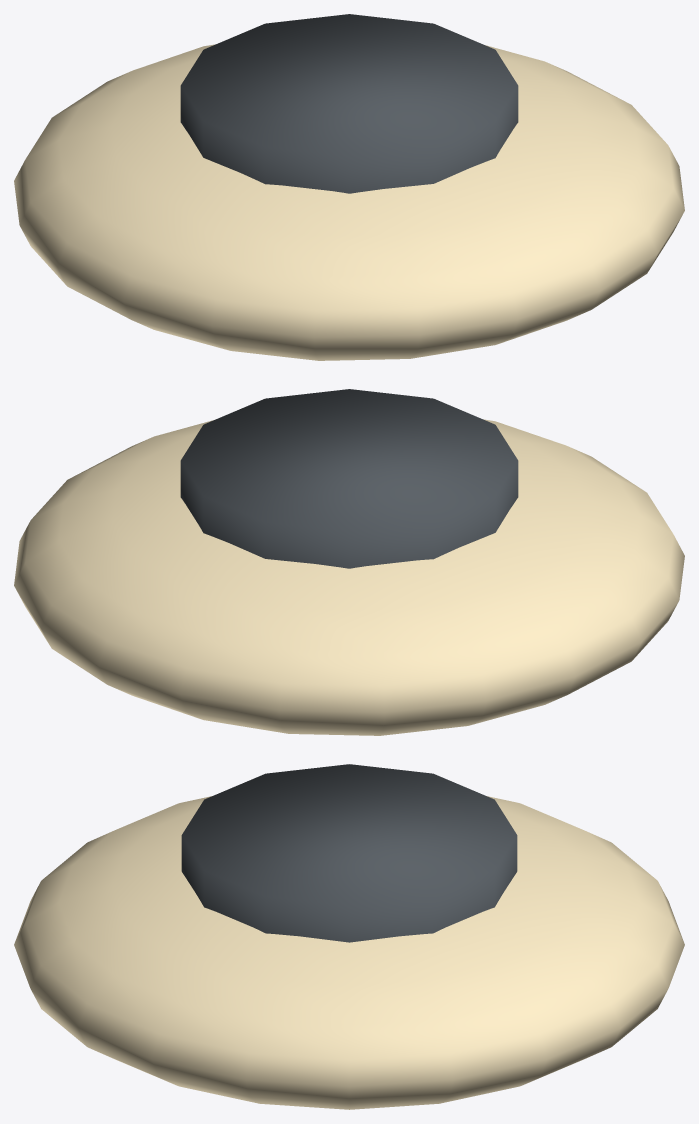
Rendered from atelier-recessed-downlight.glb.
3 renders of one model, top to bottom at view 1: azimuth 30°, elevation 25°; view 2: azimuth 150°, elevation 25°; view 3: azimuth 270°, elevation 25°, orthographic.
Visible parts, largest first — view 1: bulb.010, metal.076; view 2: bulb.010, metal.076; view 3: bulb.010, metal.076.
Part boxes in pixels (box(x1,y1,x2,y2)): bulb.010: box(14, 44, 684, 360); metal.076: box(180, 14, 518, 193); bulb.010: box(14, 419, 684, 735); metal.076: box(180, 389, 518, 568); bulb.010: box(14, 796, 684, 1109); metal.076: box(181, 764, 517, 942).
Size of the model in its own units: 0.36 by 0.115 by 0.36.
